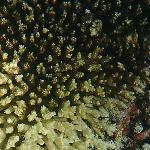dead: (1, 1, 144, 145)
